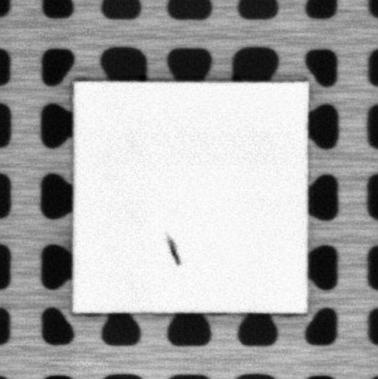DIE_INK: (164, 233, 183, 266)
